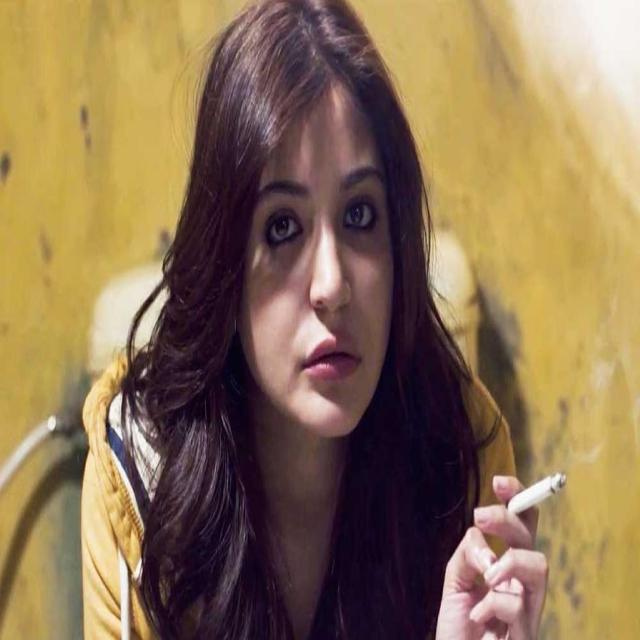smoking: (507, 469, 568, 517)
